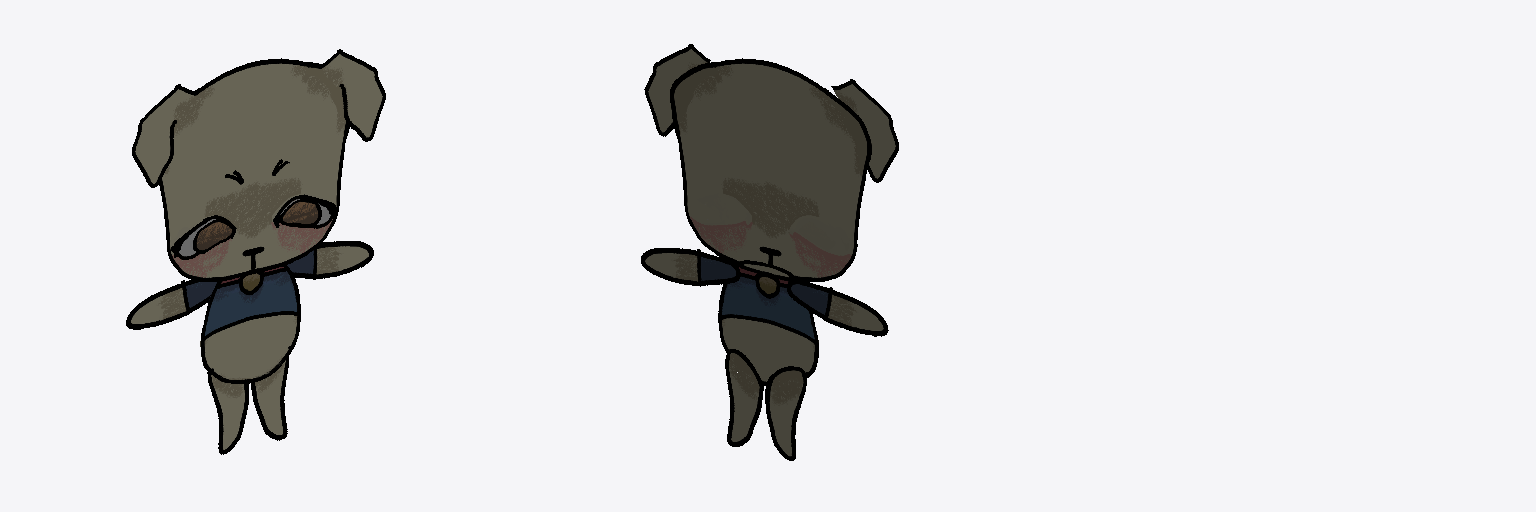
3 views of the same model, side by side, from view 1: azimuth 30°, elevation 25°; view 2: azimuth 150°, elevation 25°; view 3: azimuth 270°, elevation 25° (orthographic).
Visible parts, largest first — view 1: geo head, body geo, geo rightEar, geo leftEar, geo leftArm, geo rightArm, geo leftLeg, geo rightLeg, geo rightPupil, geo leftPupil, geo leftEye, geo rightEye; view 2: geo head, body geo, geo leftArm, geo rightArm, geo leftLeg, geo rightLeg, geo leftEar, geo rightEar; view 3: none.
Part boxes in pixels (bbox=[...]): geo head: bbox=[159, 58, 349, 281]; body geo: bbox=[200, 265, 300, 383]; geo rightEar: bbox=[320, 49, 385, 141]; geo leftEar: bbox=[132, 84, 199, 187]; geo leftArm: bbox=[126, 279, 216, 329]; geo rightArm: bbox=[287, 241, 373, 279]; geo leftLeg: bbox=[207, 372, 248, 454]; geo rightLeg: bbox=[251, 356, 288, 440]; geo rightPupil: bbox=[280, 199, 321, 227]; geo leftPupil: bbox=[192, 219, 235, 253]; geo leftEye: bbox=[171, 215, 236, 260]; geo rightEye: bbox=[273, 194, 338, 228]; geo head: bbox=[670, 58, 871, 281]; body geo: bbox=[718, 260, 818, 385]; geo leftArm: bbox=[786, 279, 888, 336]; geo rightArm: bbox=[641, 248, 740, 286]; geo leftLeg: bbox=[765, 366, 806, 460]; geo rightLeg: bbox=[725, 349, 763, 446]; geo leftEar: bbox=[831, 79, 898, 182]; geo rightEar: bbox=[644, 44, 710, 136].
Size of the model in its own units: 31.92 by 46.87 by 2.
Materials: 1 (1 with a texture image).